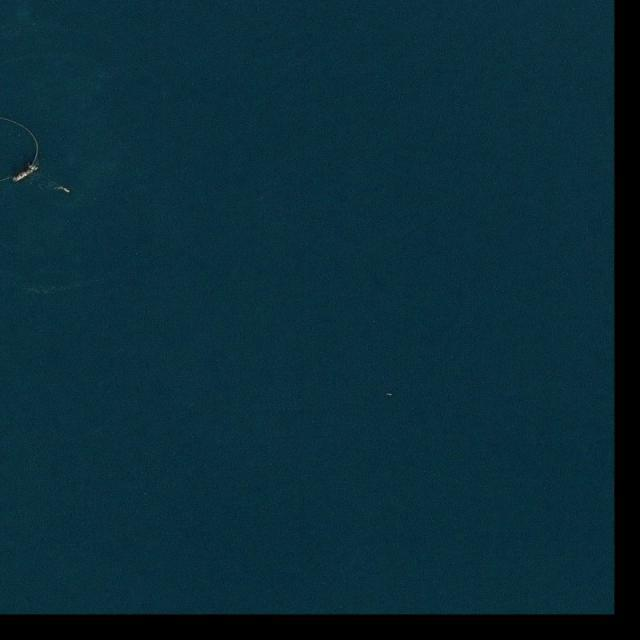ship: (10, 161, 40, 185), (62, 187, 72, 194)
